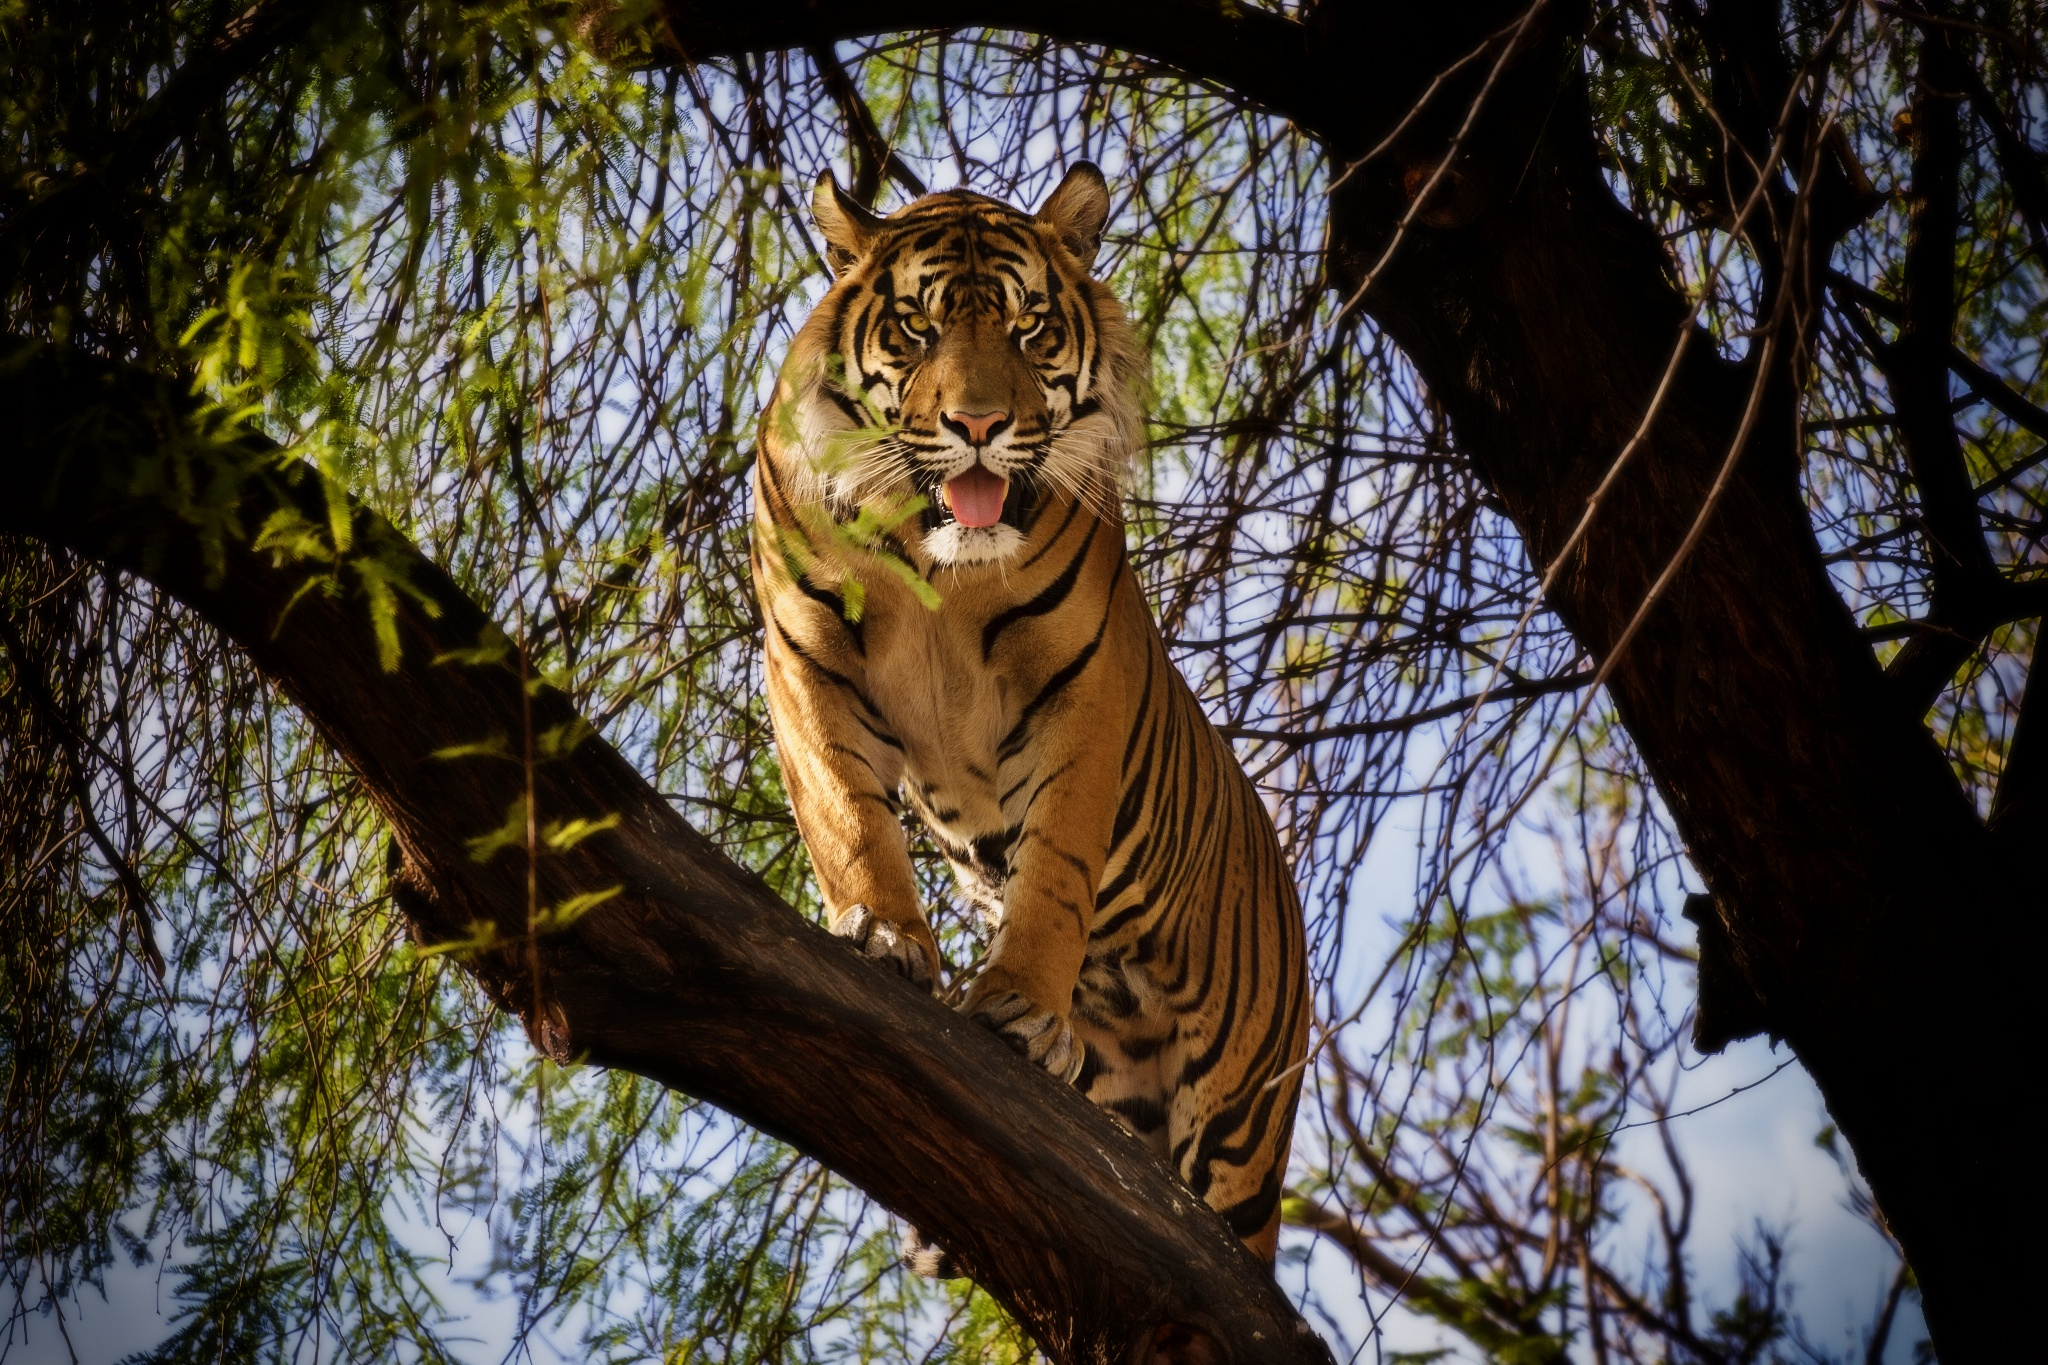tiger: (705, 146, 1373, 1271)
